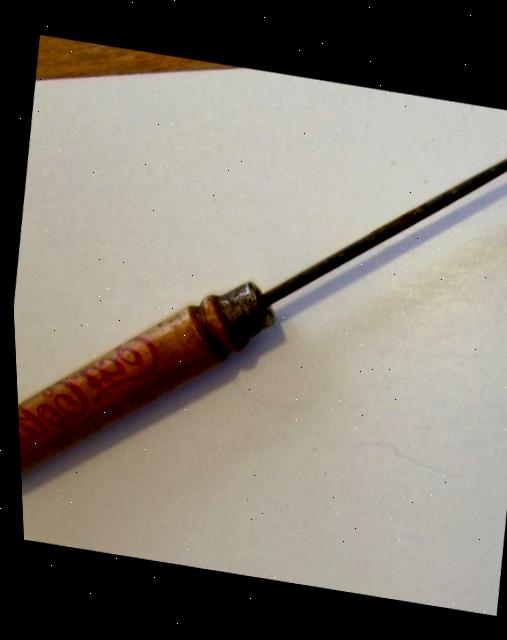ice pick: (1, 33, 507, 564)
